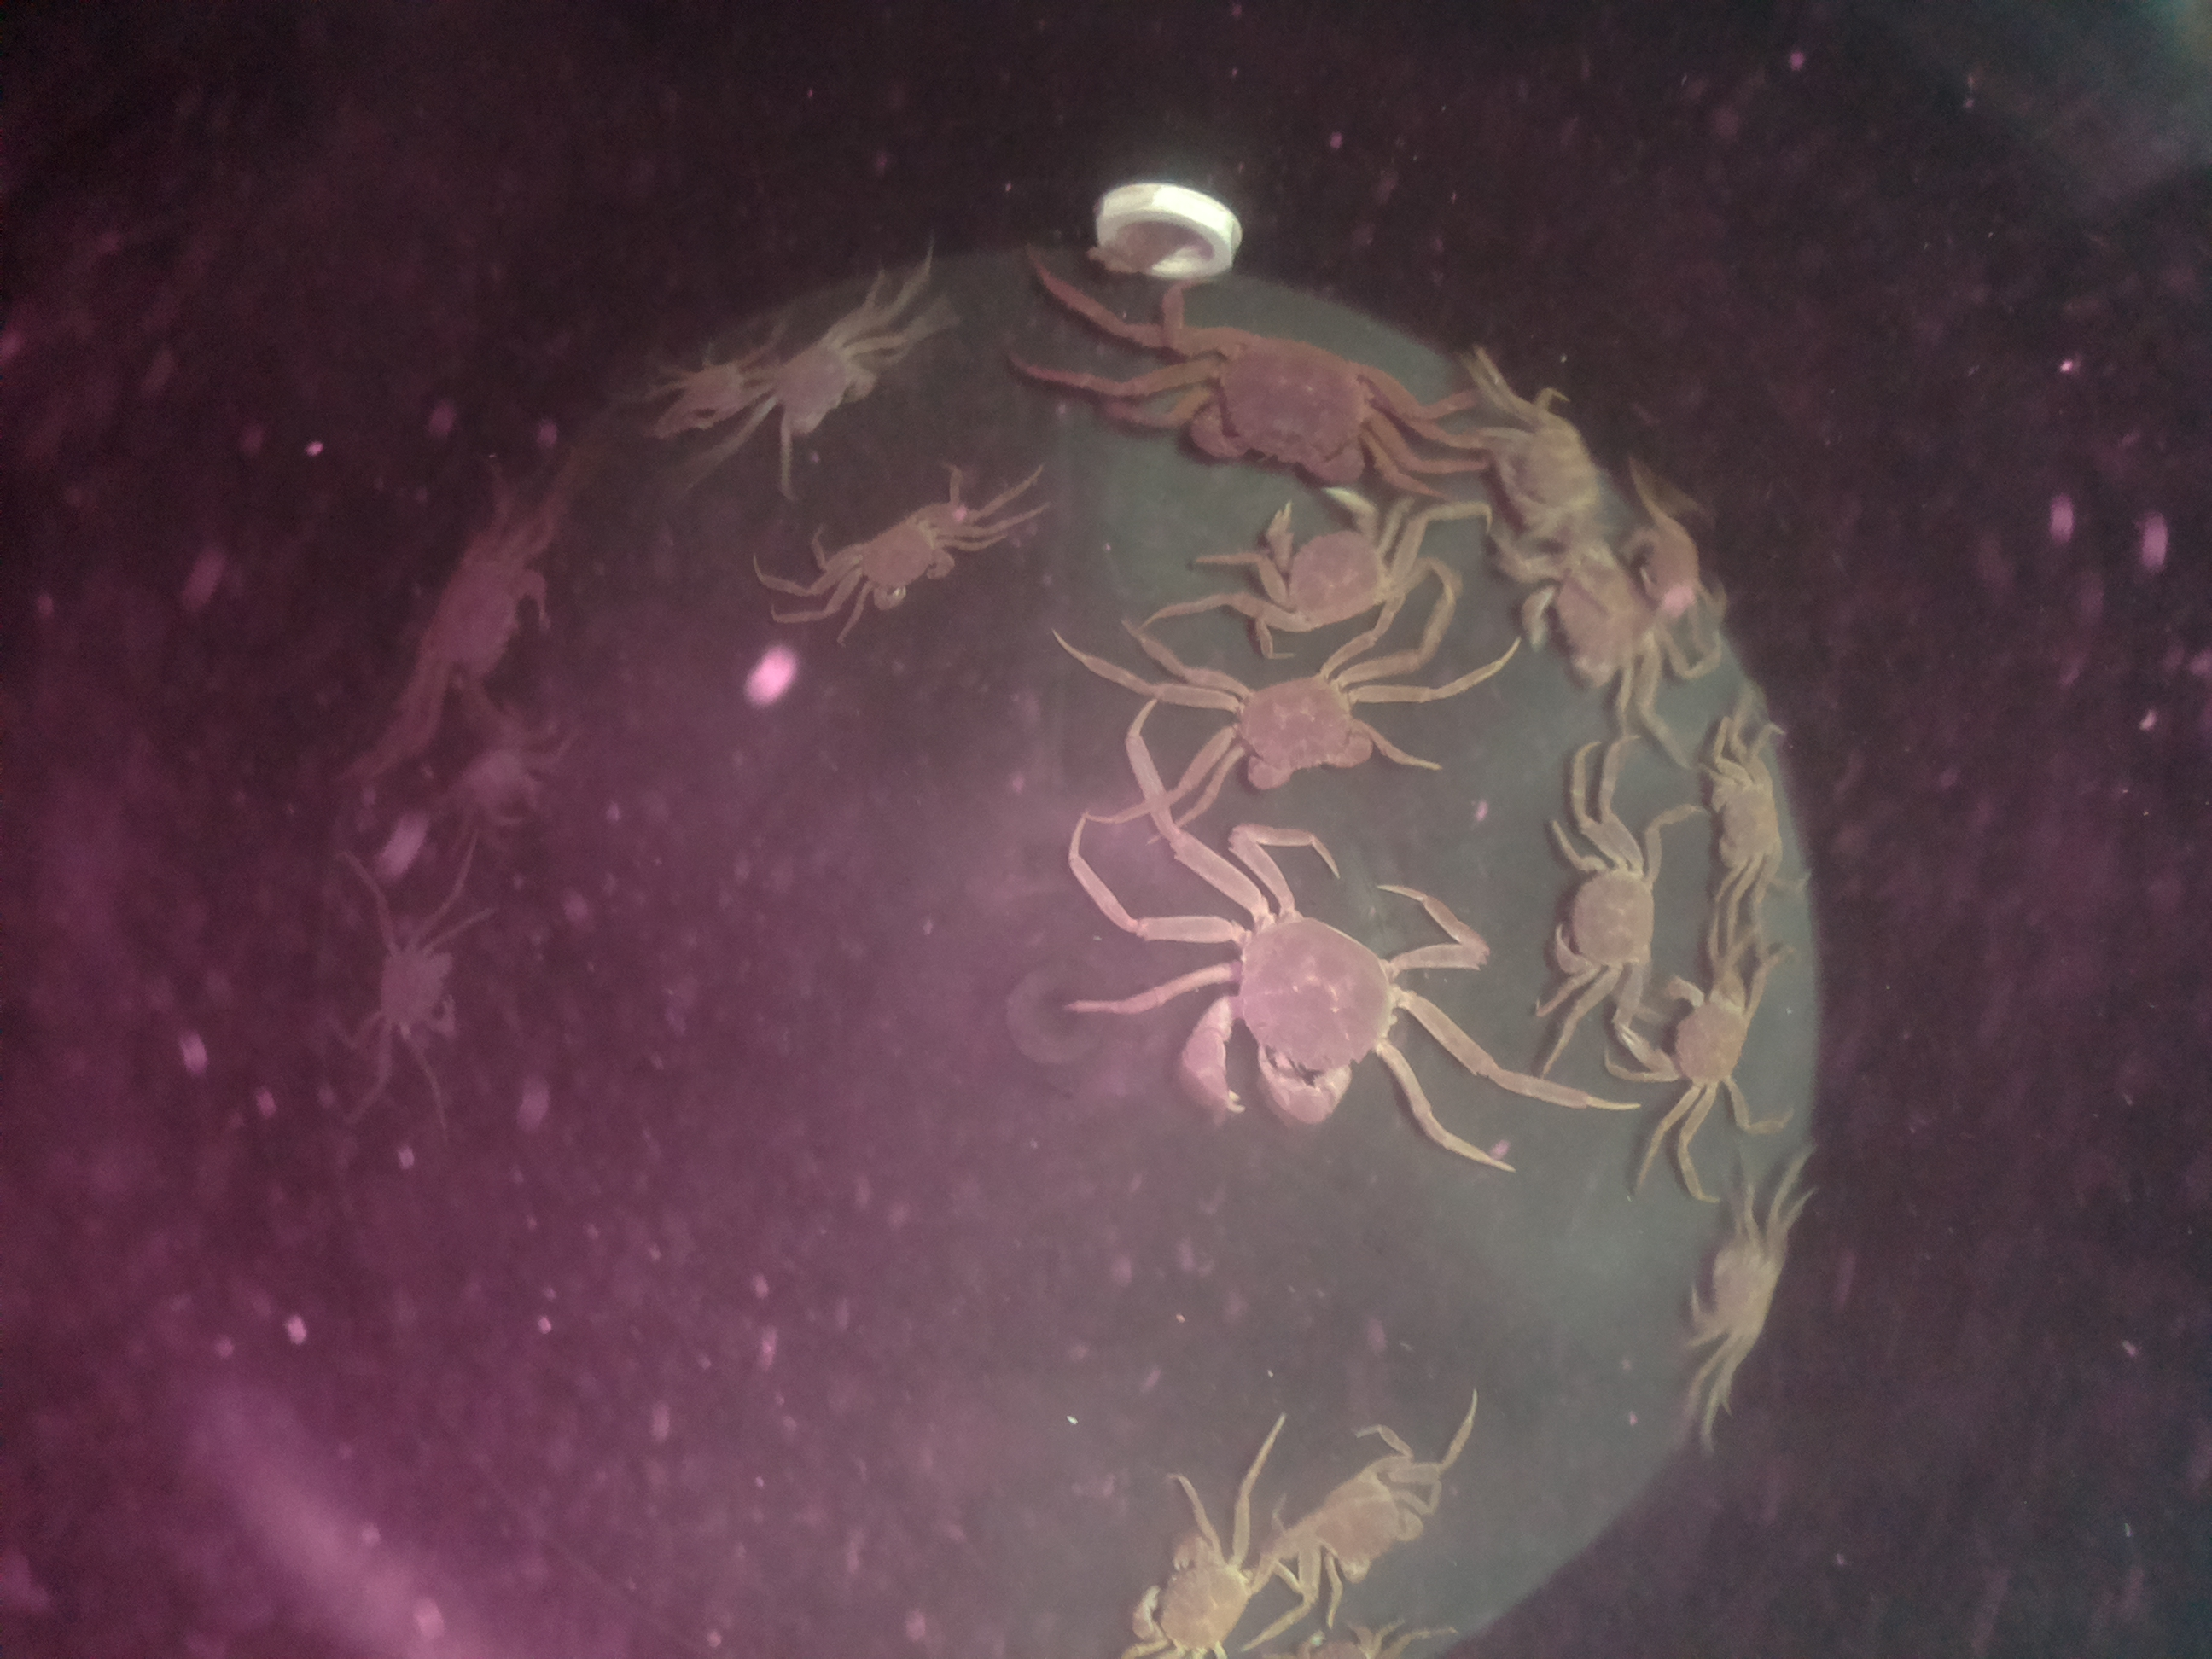Crab: (1146, 892, 1430, 1148), (1177, 288, 1395, 502), (1226, 469, 1432, 626), (1529, 817, 1672, 1028), (1205, 659, 1411, 798), (1123, 1511, 1270, 1659), (1686, 742, 1834, 884), (1646, 957, 1761, 1136), (824, 477, 961, 626), (751, 317, 895, 441), (366, 910, 481, 1065)
